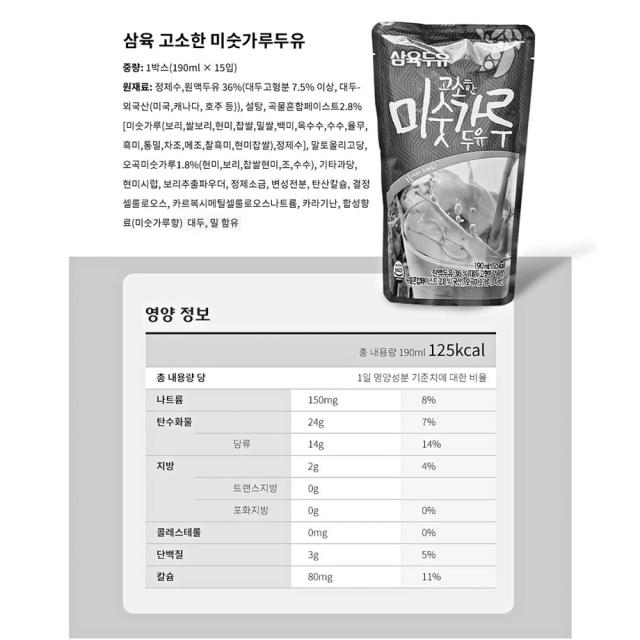Nutrition Label: (131, 299, 508, 622)
